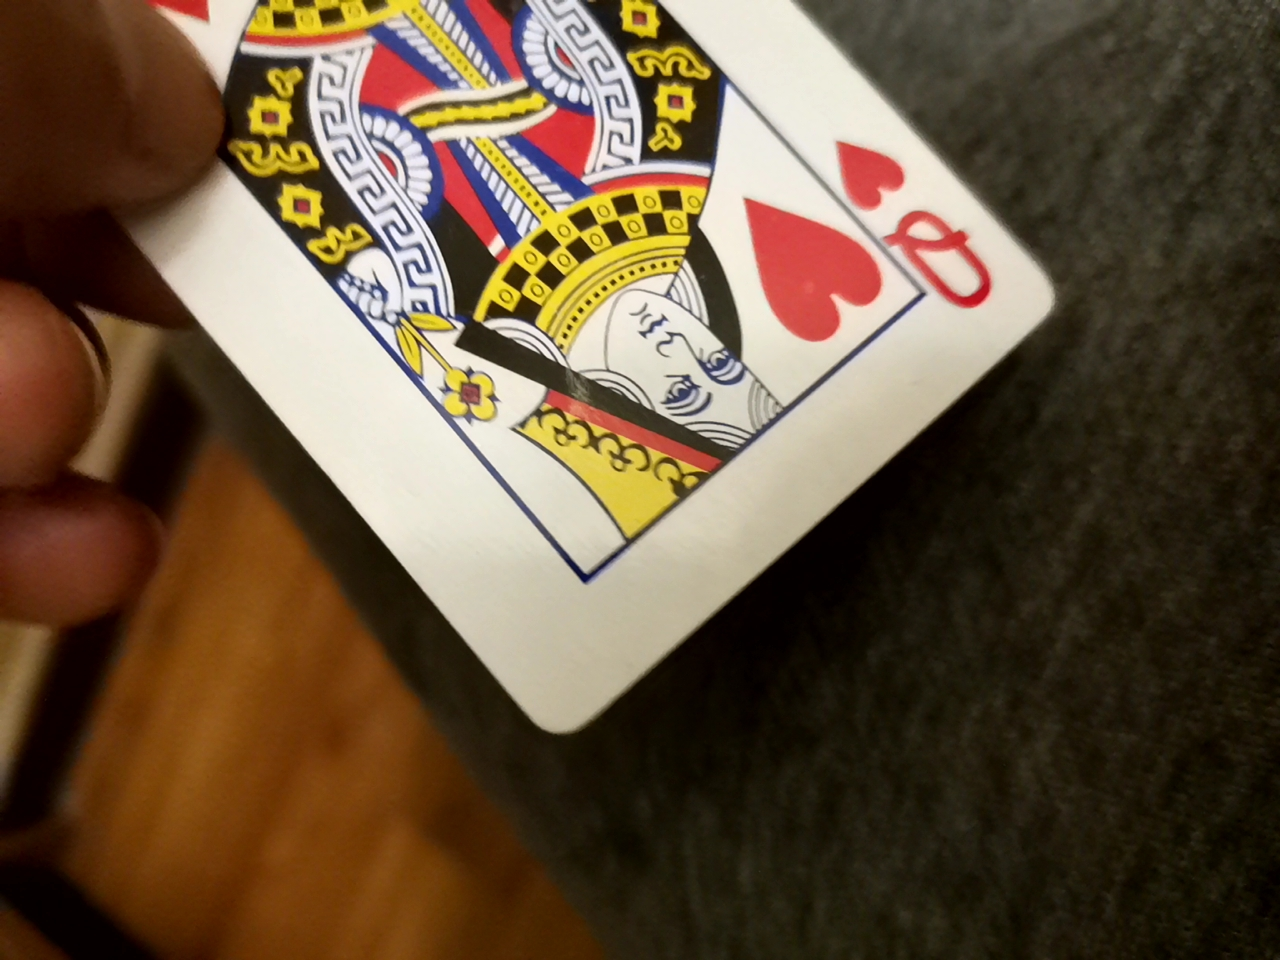hx q: (120, 0, 1051, 753)
